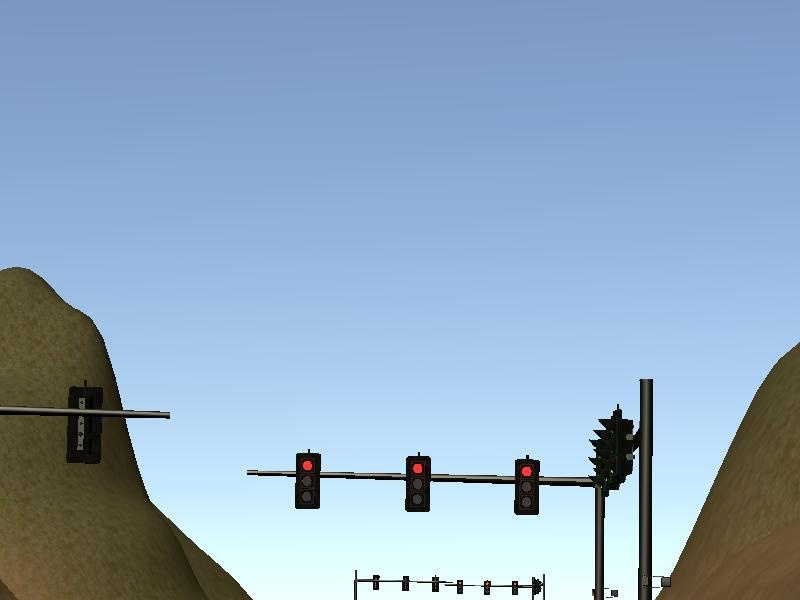red: (396, 453, 437, 514), (287, 450, 324, 514), (510, 455, 543, 520)
